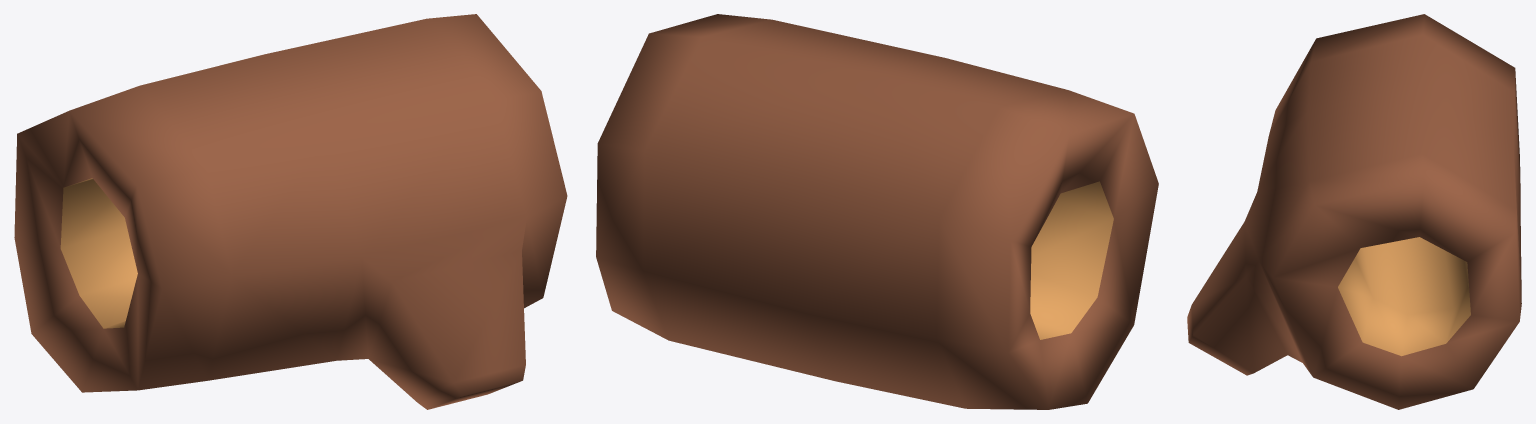
The model's file is Log_03_LOD2.gltf.
The picture shows the model from 3 angles, left to right: view 1: azimuth 30°, elevation 25°; view 2: azimuth 150°, elevation 25°; view 3: azimuth 270°, elevation 25°; orthographic projection. The views are drawn at different scales.
Visible parts, largest first — view 1: Log_03_LOD2_Cylinder.734; view 2: Log_03_LOD2_Cylinder.734; view 3: Log_03_LOD2_Cylinder.734.
Boxes of the visible parts, x1,y1,x2,y2 form: Log_03_LOD2_Cylinder.734: (14,14,567,409); Log_03_LOD2_Cylinder.734: (596,14,1158,409); Log_03_LOD2_Cylinder.734: (1187,14,1521,409).
Bounding box in the file's own units: 3.72 × 2.49 × 3.07.
Materials: 1 (1 with a texture image).
